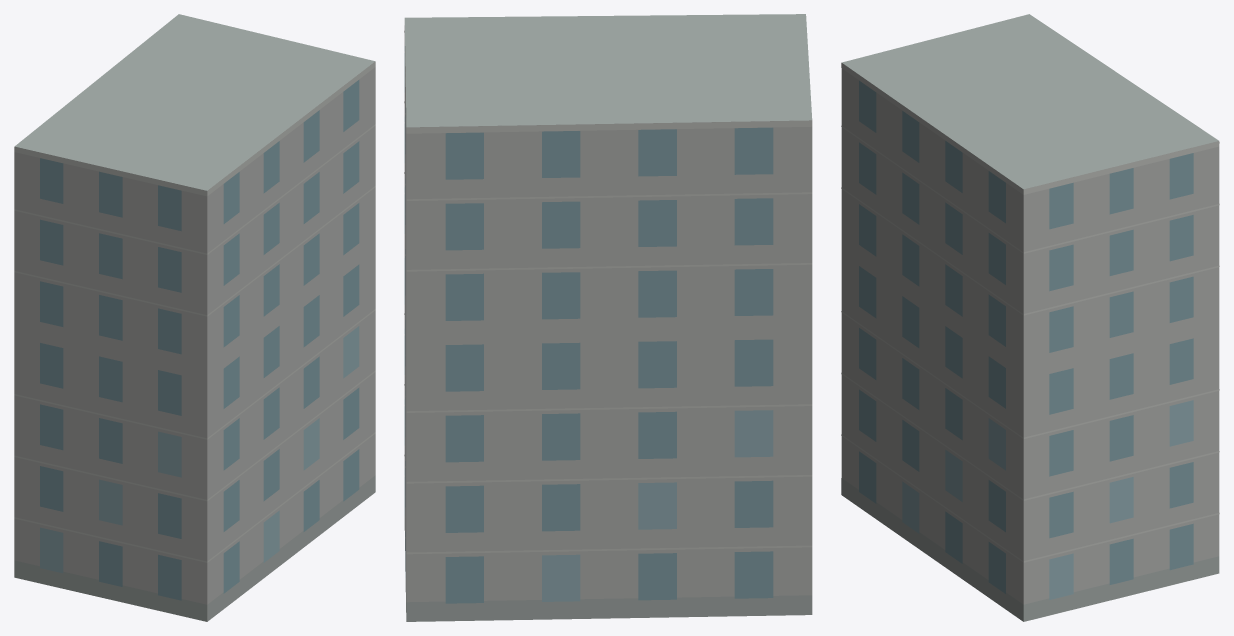
File: survey-upis-32982126.glb
3 views of the same model, side by side, from view 1: azimuth 30°, elevation 25°; view 2: azimuth 150°, elevation 25°; view 3: azimuth 270°, elevation 25° (orthographic). The views are drawn at different scales.
Visible parts, largest first — view 1: survey-upis-32982126.tmp; view 2: survey-upis-32982126.tmp; view 3: survey-upis-32982126.tmp.
Boxes of the visible parts, bbox=[...] form: survey-upis-32982126.tmp: bbox=[14, 14, 375, 621]; survey-upis-32982126.tmp: bbox=[404, 14, 812, 621]; survey-upis-32982126.tmp: bbox=[841, 14, 1219, 621].
Size of the model in its own units: 16.41 by 18.85 by 14.95.
